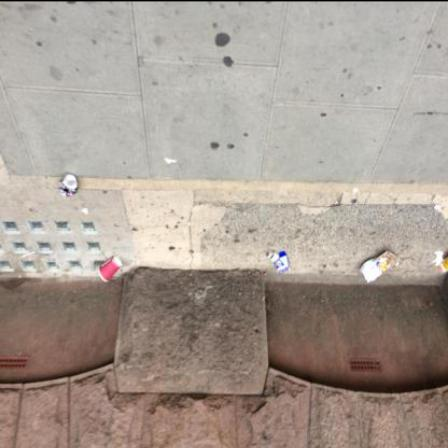Can: (59, 174, 79, 198)
Cup: (101, 257, 124, 283)
Plastic bag - wrapper: (361, 251, 399, 284)
Unlabeled litter: (272, 251, 290, 274), (433, 250, 445, 266), (439, 255, 448, 274)
